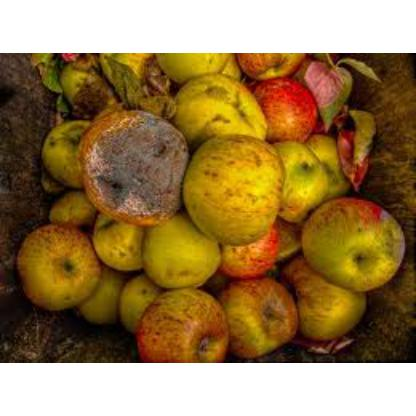apple: (81, 111, 183, 223), (183, 130, 282, 237), (294, 197, 404, 293), (126, 283, 230, 358), (172, 74, 268, 152), (222, 271, 298, 349)
